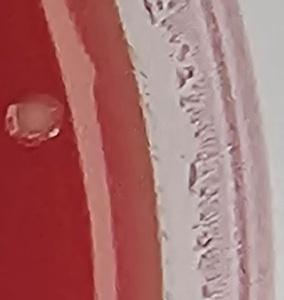colony: (0, 91, 71, 153)
